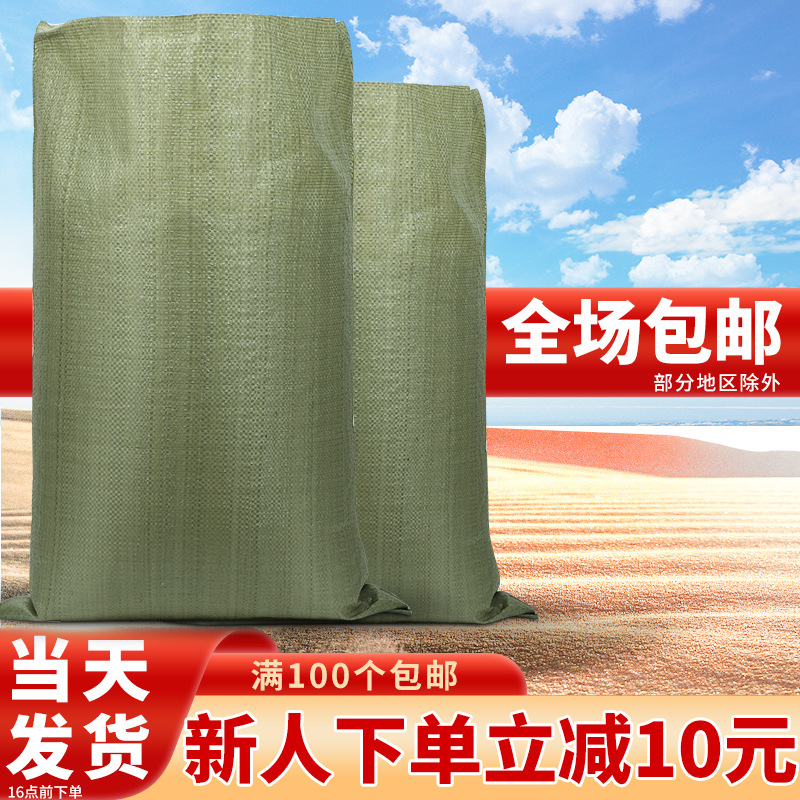塑料袋: (31, 15, 366, 619), (353, 83, 536, 624)
